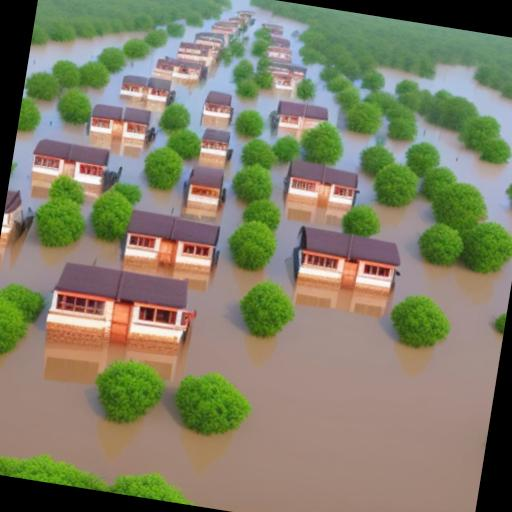flood: (0, 127, 512, 512), (7, 19, 213, 215), (171, 57, 301, 232), (0, 222, 274, 297), (306, 64, 376, 170), (215, 0, 304, 68), (25, 30, 145, 75), (80, 185, 99, 221), (158, 24, 165, 29), (177, 19, 184, 24)
house: (39, 256, 198, 362), (281, 218, 409, 318), (120, 205, 221, 278), (278, 157, 361, 225), (26, 136, 112, 194), (85, 100, 154, 152), (269, 94, 329, 142), (183, 154, 225, 216), (174, 32, 224, 76), (116, 77, 171, 116), (0, 190, 22, 267), (151, 54, 206, 84), (198, 87, 232, 132), (0, 186, 27, 238), (197, 125, 232, 165), (268, 62, 306, 98), (212, 18, 238, 38), (266, 44, 292, 60)
